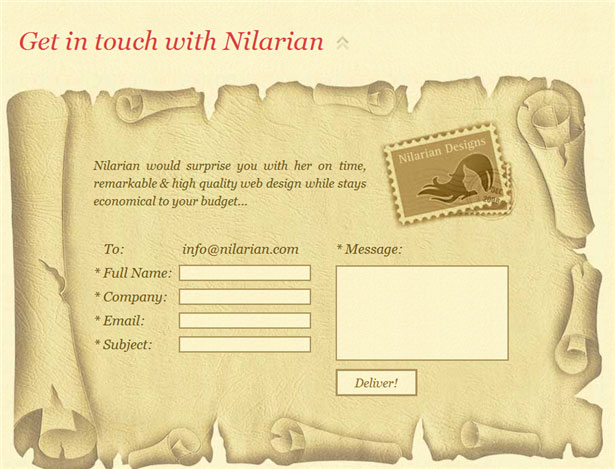_form_: (101, 237, 518, 453)
button: (336, 368, 417, 396)
field: (334, 264, 510, 361), (176, 263, 312, 281), (176, 311, 311, 329), (178, 335, 311, 353), (177, 288, 312, 305)
field_with_label: (103, 261, 315, 282), (104, 334, 313, 355), (104, 310, 313, 330), (103, 287, 314, 306)
